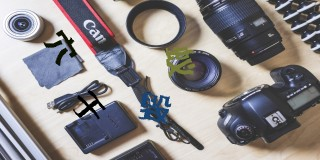于: (72, 90, 105, 120)
毁: (138, 91, 171, 124)
穴: (42, 29, 77, 66)
蚁: (165, 45, 195, 78)
